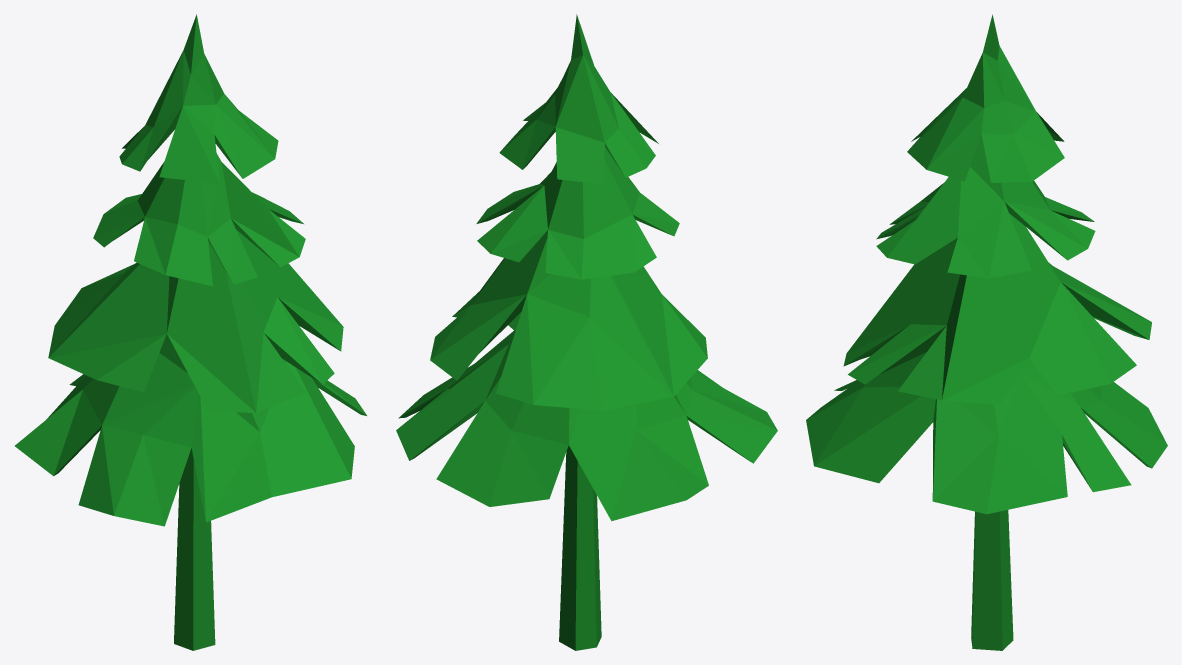
Rendered from Pine_01.fbx.
3 views of the same model, side by side, from view 1: azimuth 30°, elevation 25°; view 2: azimuth 150°, elevation 25°; view 3: azimuth 270°, elevation 25° (orthographic).
Visible parts, largest first — view 1: Cone001; view 2: Cone001; view 3: Cone001.
Part boxes in pixels (x1,y1,x2,y2): Cone001: (15,14,366,650); Cone001: (396,14,777,650); Cone001: (806,14,1167,650).
Size of the model in its own units: 99.49 by 196 by 102.
